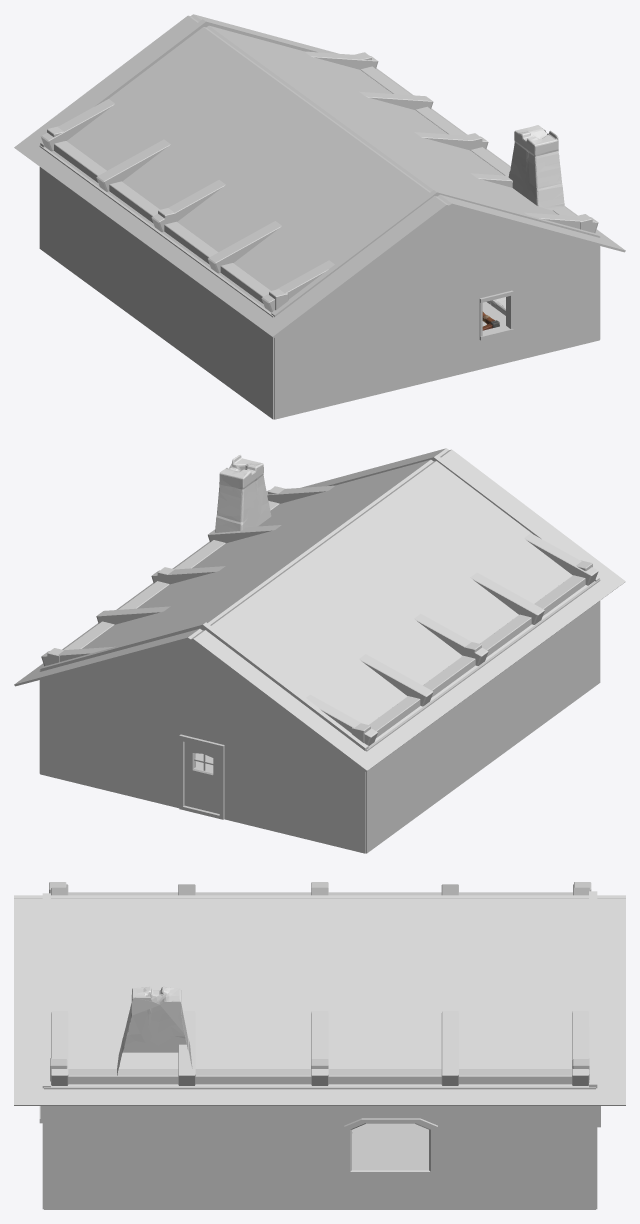
The model's file is Lobby_LevelDesign.fbx.
3 views of the same model, one above another, from view 1: azimuth 30°, elevation 25°; view 2: azimuth 150°, elevation 25°; view 3: azimuth 270°, elevation 25° (orthographic). The views are drawn at different scales.
Parts seen in each view (by area): view 1: Roof, WallA.001, WallA_02.001, Fireplace, Pillar.007, WallA_Door, Pillar.008, Pillar.012, Pillar.013, Pillar.011, Pillar.014, WindowB (+4 smaller); view 2: Roof, WallA_Door, WallA_02.001, Pillar.007, Fireplace, Pillar.008, WallA.001, Pillar.013, Pillar.012, Pillar.010, Pillar.014, Pillar.011 (+4 smaller); view 3: Roof, WallB_Window, Pillar.008, Fireplace, WindowA, Floor, WallA_Door, WallA.001, Pillar.007, Pillar.019, Pillar.017, Pillar.015 (+3 smaller).
Part boxes in pixels (x1,y1,x2,y2): Roof: (14, 14, 625, 337); WallA.001: (271, 190, 599, 419); WallA_02.001: (39, 145, 273, 419); Fireplace: (486, 125, 564, 315); Pillar.007: (54, 141, 270, 303); WallA_Door: (40, 19, 325, 147); Pillar.008: (360, 66, 576, 215); Pillar.012: (96, 139, 170, 191); Pillar.013: (208, 221, 281, 273); Pillar.011: (41, 99, 114, 151); Pillar.014: (151, 180, 225, 231); WindowB: (479, 290, 513, 340); Roof: (14, 448, 625, 771); WallA_Door: (40, 622, 368, 853); WallA_02.001: (366, 579, 600, 853); Pillar.007: (369, 575, 585, 737); Fireplace: (215, 454, 271, 532); Pillar.008: (63, 501, 279, 649); WallA.001: (319, 455, 599, 581); Pillar.013: (470, 572, 544, 624); Pillar.012: (359, 654, 433, 706); Pillar.010: (524, 533, 598, 585); Pillar.014: (414, 614, 488, 665); Pillar.011: (306, 694, 377, 745); Roof: (14, 895, 625, 1105); WallB_Window: (44, 1086, 595, 1209); Pillar.008: (68, 1069, 571, 1084); Fireplace: (117, 986, 192, 1075); WindowA: (344, 1118, 437, 1175); Floor: (352, 1123, 405, 1165); WallA_Door: (589, 891, 600, 1209); WallA.001: (42, 893, 50, 1209); Pillar.007: (68, 892, 572, 895); Pillar.019: (441, 1011, 458, 1085); Pillar.017: (51, 1011, 68, 1085); Pillar.015: (311, 1011, 328, 1085).
Size of the model in its own units: 12.57 by 6.44 by 15.95.
